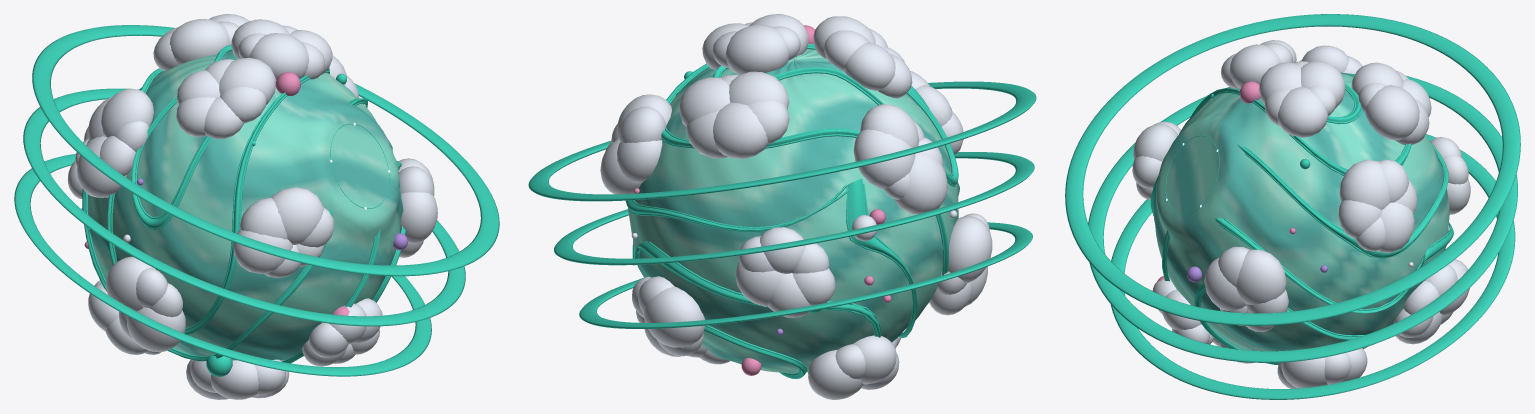
File: planet-breathing.glb
The picture shows the model from 3 angles, left to right: view 1: azimuth 30°, elevation 25°; view 2: azimuth 150°, elevation 25°; view 3: azimuth 270°, elevation 25°; orthographic projection. The views are drawn at different scales.
Visible parts, largest first — view 1: MyoSkills breathing / Sculpted pearl · vertex colour, MyoSkills breathing / Ivory ceramic, MyoSkills breathing / Mint opaline resin, MyoSkills breathing / Blush ceramic; view 2: MyoSkills breathing / Ivory ceramic, MyoSkills breathing / Sculpted pearl · vertex colour, MyoSkills breathing / Mint opaline resin, MyoSkills breathing / Blush ceramic; view 3: MyoSkills breathing / Mint opaline resin, MyoSkills breathing / Sculpted pearl · vertex colour, MyoSkills breathing / Ivory ceramic, MyoSkills breathing / Blush ceramic.
Boxes of the visible parts, box(x1,y1,x2,y2) form: MyoSkills breathing / Sculpted pearl · vertex colour: box(87, 50, 403, 360); MyoSkills breathing / Ivory ceramic: box(67, 14, 437, 399); MyoSkills breathing / Mint opaline resin: box(14, 25, 499, 376); MyoSkills breathing / Blush ceramic: box(81, 72, 383, 315); MyoSkills breathing / Ivory ceramic: box(600, 14, 992, 399); MyoSkills breathing / Sculpted pearl · vertex colour: box(628, 49, 959, 373); MyoSkills breathing / Mint opaline resin: box(528, 43, 1036, 378); MyoSkills breathing / Blush ceramic: box(634, 25, 891, 375); MyoSkills breathing / Mint opaline resin: box(1065, 14, 1520, 399); MyoSkills breathing / Sculpted pearl · vertex colour: box(1154, 72, 1449, 351); MyoSkills breathing / Ivory ceramic: box(1132, 40, 1470, 388); MyoSkills breathing / Blush ceramic: box(1157, 81, 1295, 281).
Bounding box in the file's own units: 3.09 × 2.41 × 3.11.
